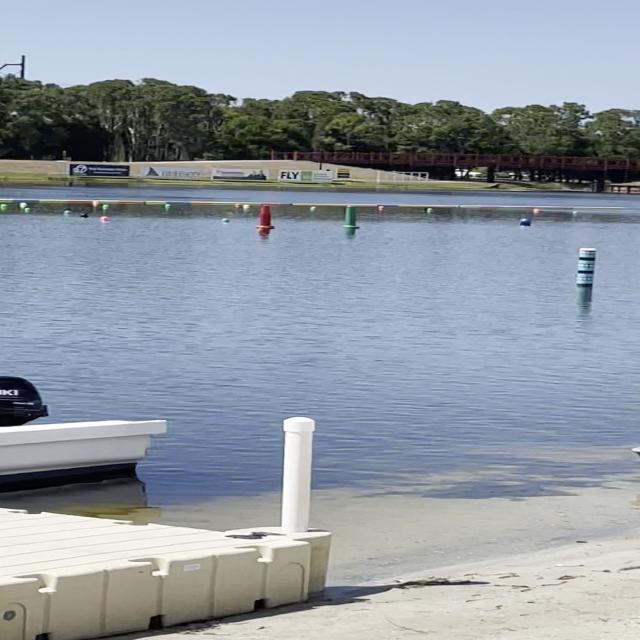buoy: (516, 218, 534, 228), (78, 212, 92, 220), (98, 215, 112, 223), (100, 204, 112, 211), (0, 203, 9, 210), (164, 204, 174, 209), (23, 208, 32, 212)
